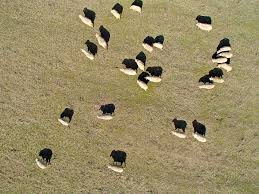sheep: (194, 19, 219, 34), (116, 65, 138, 79), (93, 31, 108, 51), (132, 56, 149, 73), (205, 74, 229, 86), (166, 128, 188, 140), (135, 77, 151, 93), (216, 61, 237, 73), (75, 13, 93, 27), (107, 164, 127, 175), (215, 43, 233, 55), (142, 74, 163, 84), (196, 82, 216, 92), (192, 131, 206, 144), (140, 42, 154, 55), (152, 40, 166, 53), (128, 2, 143, 14), (95, 112, 113, 122), (107, 8, 120, 21), (34, 157, 47, 170), (209, 56, 230, 64), (80, 48, 94, 60), (217, 51, 235, 59), (56, 117, 70, 127)
